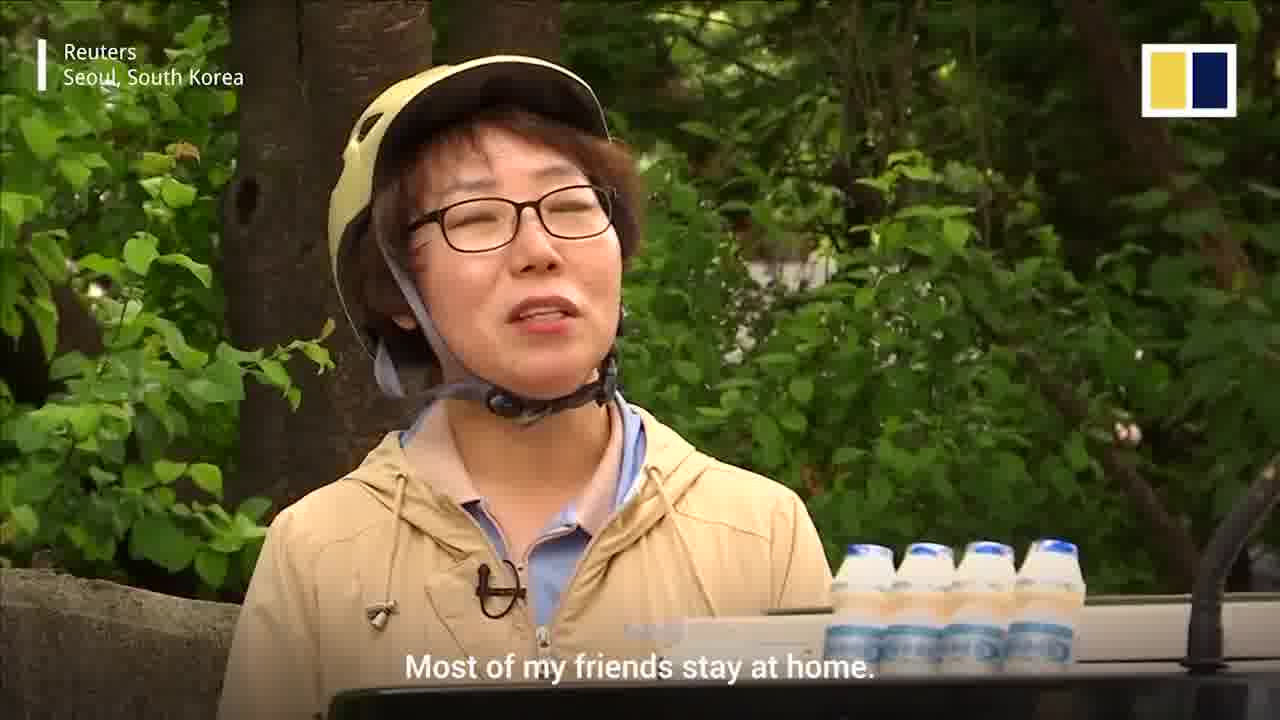Yakurut: (162, 58, 837, 685)
